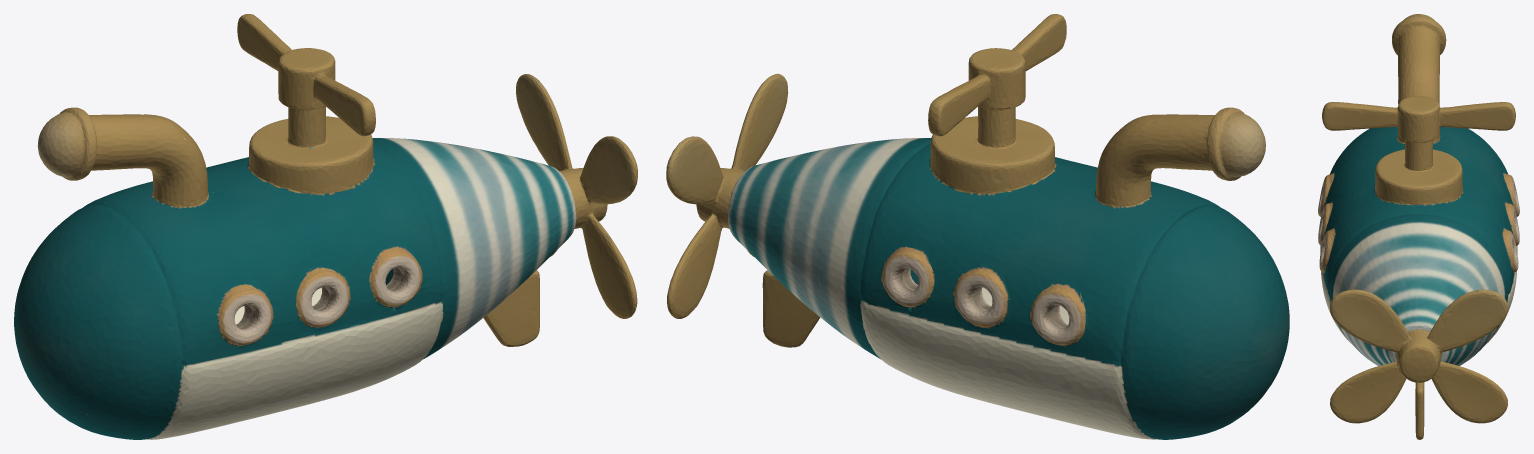
3 views of the same model, side by side, from view 1: azimuth 30°, elevation 25°; view 2: azimuth 150°, elevation 25°; view 3: azimuth 270°, elevation 25° (orthographic). The views are drawn at different scales.
Bounding box in the file's own units: 1 × 0.5785 × 0.4104.
1 material, 1 textured.
